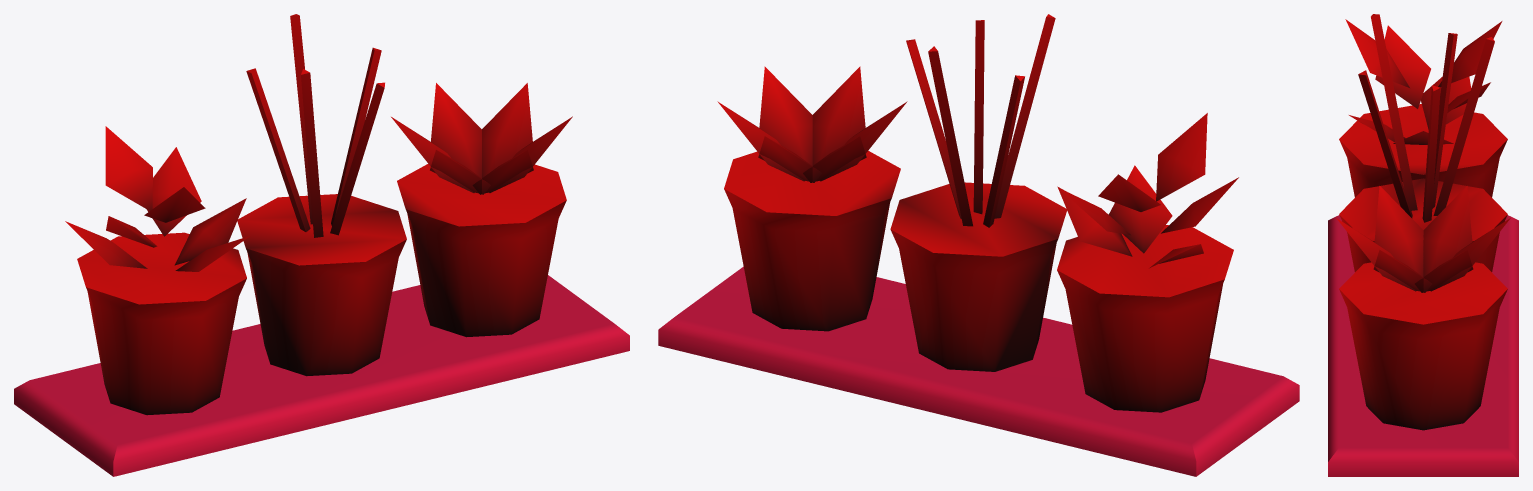
Rendered from CI_Kitchen_HerbPots.glb.
The picture shows the model from 3 angles, left to right: view 1: azimuth 30°, elevation 25°; view 2: azimuth 150°, elevation 25°; view 3: azimuth 270°, elevation 25°; orthographic projection. The views are drawn at different scales.
Visible parts, largest first — view 1: CI_Kitchen_HerbPots; view 2: CI_Kitchen_HerbPots; view 3: CI_Kitchen_HerbPots.
Boxes of the visible parts, <box> form: CI_Kitchen_HerbPots: <box>14,14,629,476</box>; CI_Kitchen_HerbPots: <box>658,14,1299,476</box>; CI_Kitchen_HerbPots: <box>1328,14,1518,476</box>.
Size of the model in its own units: 0.42 by 0.2609 by 0.14.
